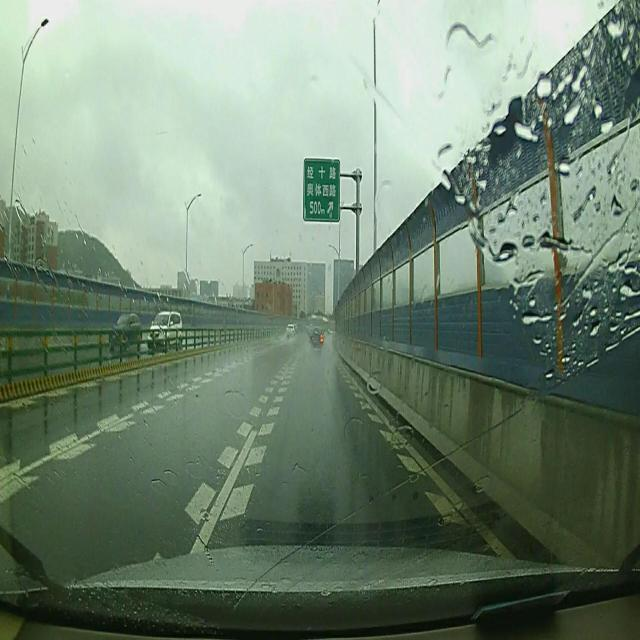car: (147, 308, 183, 348), (108, 310, 144, 348), (306, 324, 324, 350), (284, 324, 297, 339)
